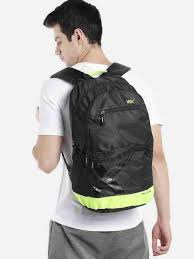backpack: (49, 62, 154, 212)
